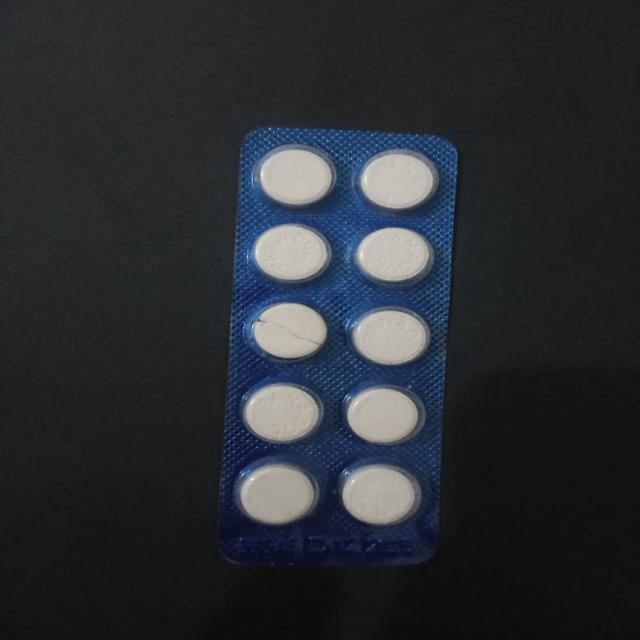defect: (243, 299, 333, 364)
